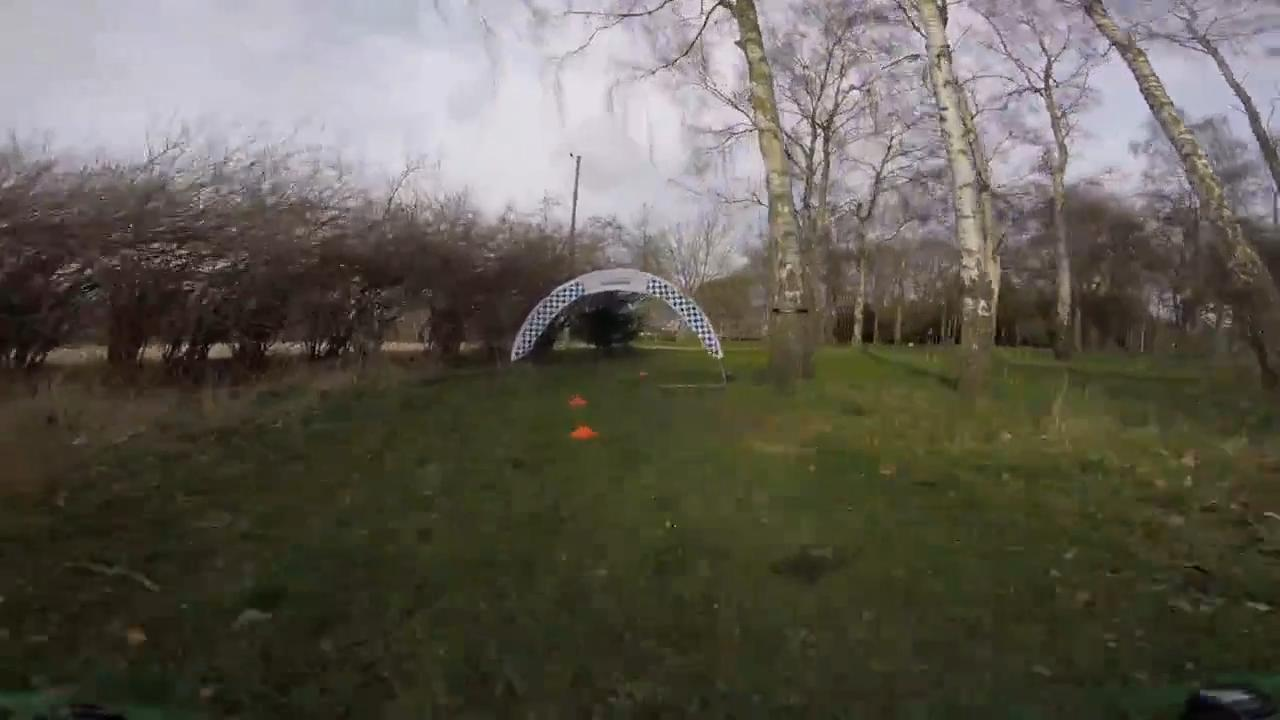gate: (512, 267, 728, 366)
